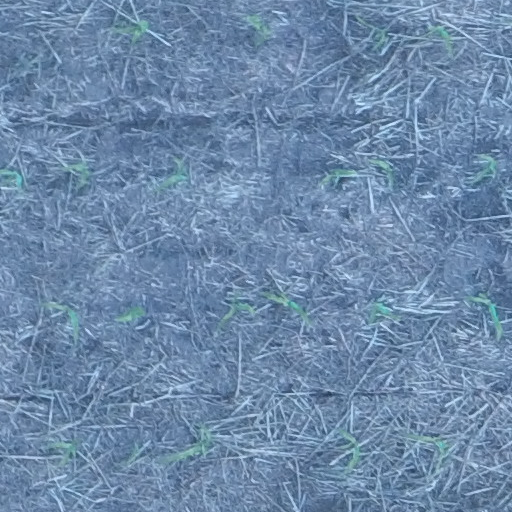planta: (158, 420, 213, 463), (403, 433, 453, 475), (462, 290, 505, 338), (263, 290, 309, 323), (42, 301, 79, 340), (334, 425, 361, 476), (353, 12, 388, 49), (108, 17, 150, 46), (220, 289, 254, 324), (155, 155, 188, 191), (45, 436, 81, 468), (418, 25, 453, 52), (245, 14, 274, 46), (365, 157, 396, 184), (472, 152, 497, 183), (317, 167, 358, 185), (367, 300, 397, 324), (60, 162, 90, 185), (111, 305, 145, 322)
